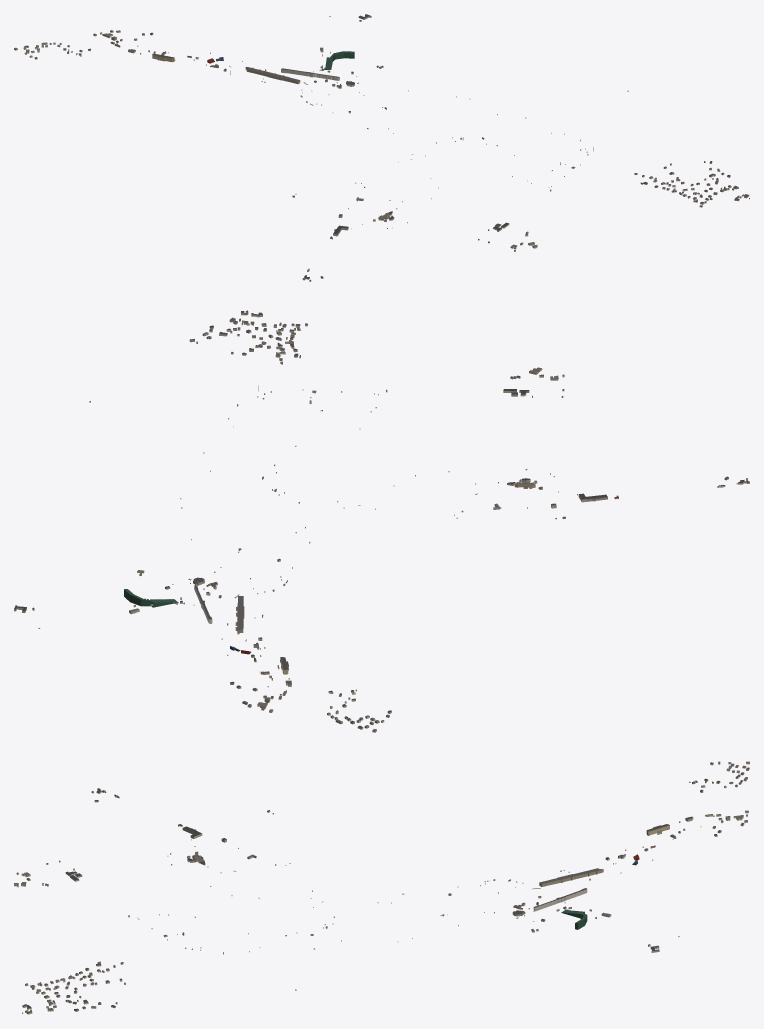
File: scenery.glb
3 renders of one model, top to bottom at view 1: azimuth 30°, elevation 25°; view 2: azimuth 150°, elevation 25°; view 3: azimuth 270°, elevation 25°, orthographic. The views are drawn at different scales.
Parts seen in each view (by area): view 1: chunk_15_13; view 2: no part large enough to name; view 3: chunk_15_13, chunk_15_12, chunk_17_18.
Part boxes in pixels (box(x1,y1,x2,y2)): chunk_15_13: box(281, 68, 364, 105); chunk_15_13: box(480, 879, 587, 918); chunk_15_12: box(539, 868, 611, 917); chunk_17_18: box(25, 961, 109, 991).
Size of the model in its own units: 2417 by 150 by 3215.
